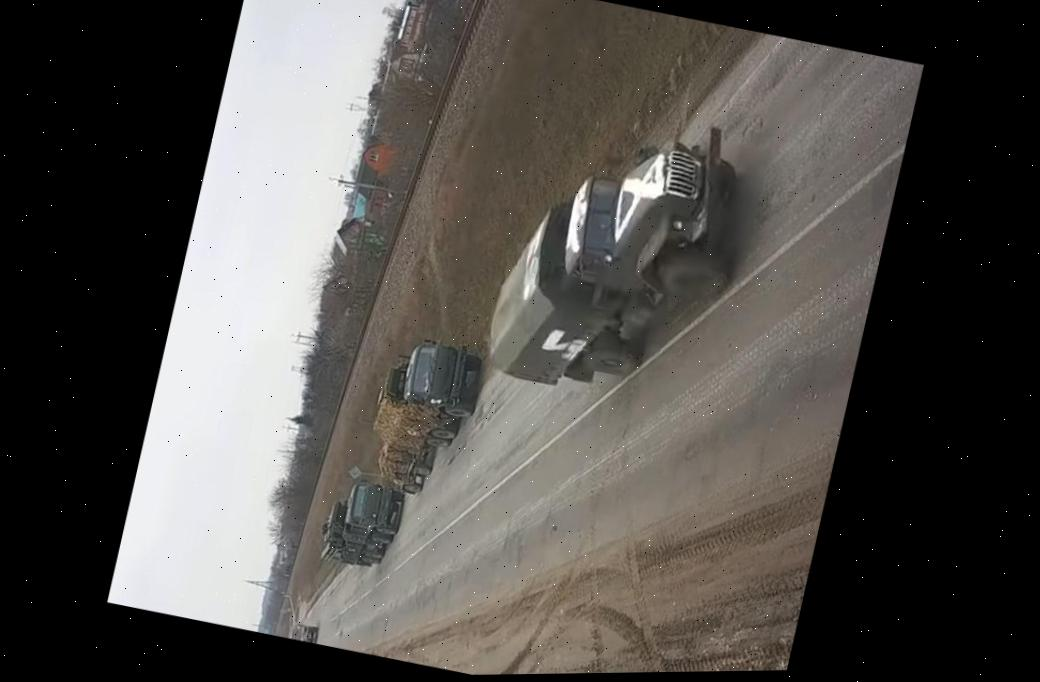truck: (462, 84, 774, 420), (351, 331, 484, 500), (311, 472, 405, 574), (292, 616, 323, 644)
